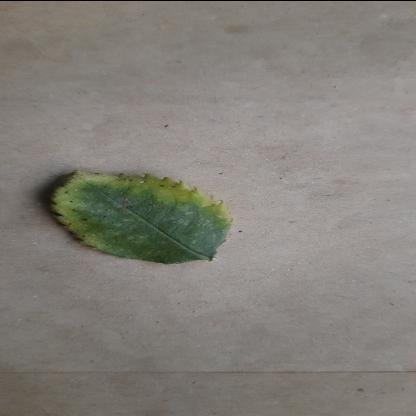black-spot: (44, 160, 230, 268)
